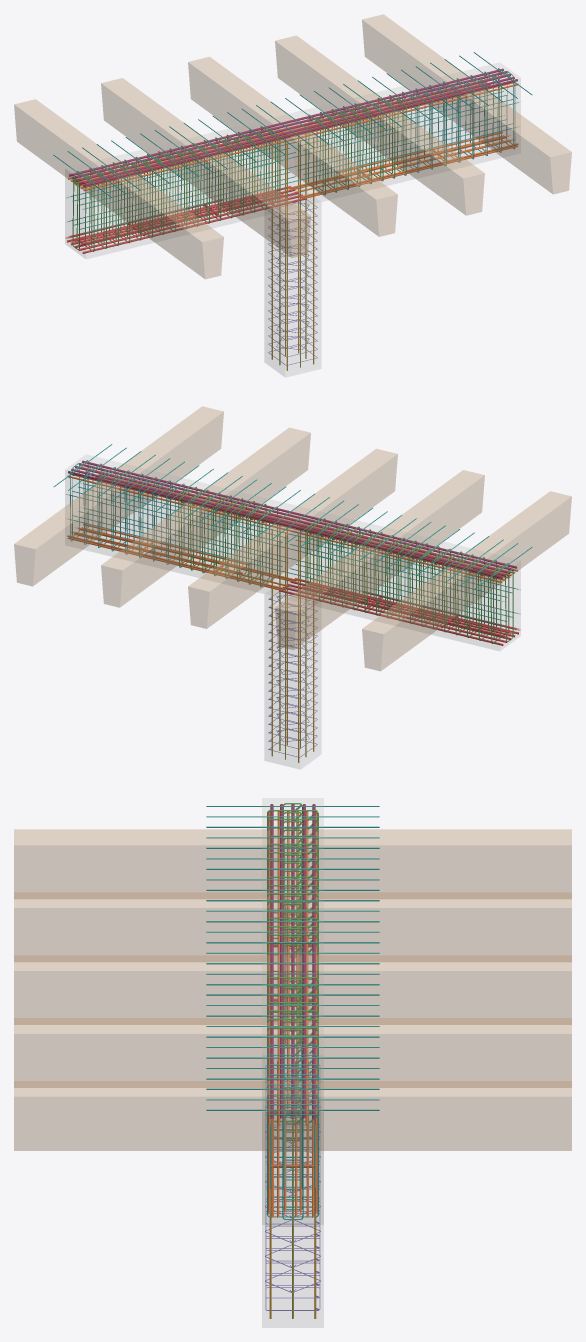
Rendered from unterzug-441-achse17-ft.glb.
3 renders of one model, top to bottom at view 1: azimuth 30°, elevation 25°; view 2: azimuth 150°, elevation 25°; view 3: azimuth 270°, elevation 25°, orthographic. The views are drawn at different scales.
Parts seen in each view (by area): view 1: Beton, Fertigteiltraeger_1, Fertigteiltraeger_5, Fertigteiltraeger_3, Fertigteiltraeger_2, Fertigteiltraeger_4, Pos_18_2, Pos_17_2, Pos_18_1, Pos_16_1, Pos_17_1, Pos_10_2 (+8 smaller); view 2: Beton, Fertigteiltraeger_1, Fertigteiltraeger_5, Fertigteiltraeger_3, Fertigteiltraeger_2, Fertigteiltraeger_4, Pos_17_1, Pos_18_2, Pos_18_1, Pos_16_1, Pos_17_2, Pos_10_1 (+8 smaller); view 3: Fertigteiltraeger_5, Fertigteiltraeger_1, Fertigteiltraeger_2, Fertigteiltraeger_3, Fertigteiltraeger_4, Beton, Pos_18_1, Pos_18_2, Pos_17_1, Pos_17_2, Pos_16_1, Pos_11_1 (+3 smaller).
Boxes of the visible parts, left/top/right/bottom form: Beton: left=65, top=63, right=520, bottom=376; Fertigteiltraeger_1: left=14, top=99, right=223, bottom=278; Fertigteiltraeger_5: left=362, top=14, right=571, bottom=194; Fertigteiltraeger_3: left=188, top=57, right=397, bottom=236; Fertigteiltraeger_2: left=101, top=78, right=310, bottom=257; Fertigteiltraeger_4: left=275, top=36, right=484, bottom=215; Pos_18_2: left=83, top=79, right=517, bottom=187; Pos_17_2: left=79, top=76, right=514, bottom=184; Pos_18_1: left=69, top=68, right=503, bottom=176; Pos_16_1: left=75, top=74, right=510, bottom=181; Pos_17_1: left=72, top=71, right=506, bottom=179; Pos_10_2: left=83, top=83, right=518, bottom=190; Beton: left=65, top=455, right=520, bottom=768; Fertigteiltraeger_1: left=362, top=491, right=571, bottom=670; Fertigteiltraeger_5: left=14, top=406, right=223, bottom=586; Fertigteiltraeger_3: left=188, top=449, right=397, bottom=628; Fertigteiltraeger_2: left=275, top=470, right=484, bottom=649; Fertigteiltraeger_4: left=101, top=428, right=310, bottom=607; Pos_17_1: left=71, top=468, right=506, bottom=576; Pos_18_2: left=82, top=460, right=516, bottom=568; Pos_18_1: left=68, top=471, right=502, bottom=579; Pos_16_1: left=75, top=466, right=510, bottom=573; Pos_17_2: left=79, top=463, right=513, bottom=570; Pos_10_1: left=67, top=475, right=502, bottom=582; Fertigteiltraeger_5: left=14, top=1081, right=571, bottom=1150; Fertigteiltraeger_1: left=14, top=829, right=571, bottom=898; Fertigteiltraeger_2: left=14, top=892, right=571, bottom=961; Fertigteiltraeger_3: left=14, top=955, right=571, bottom=1024; Fertigteiltraeger_4: left=14, top=1018, right=571, bottom=1087; Beton: left=262, top=798, right=323, bottom=1327; Pos_18_1: left=312, top=804, right=315, bottom=1118; Pos_18_2: left=270, top=804, right=273, bottom=1118; Pos_17_1: left=302, top=804, right=305, bottom=1118; Pos_17_2: left=280, top=804, right=283, bottom=1118; Pos_16_1: left=291, top=804, right=294, bottom=1118; Pos_11_1: left=305, top=811, right=308, bottom=1124.
Size of the model in its own units: 6.1 by 3.2 by 4.5.
